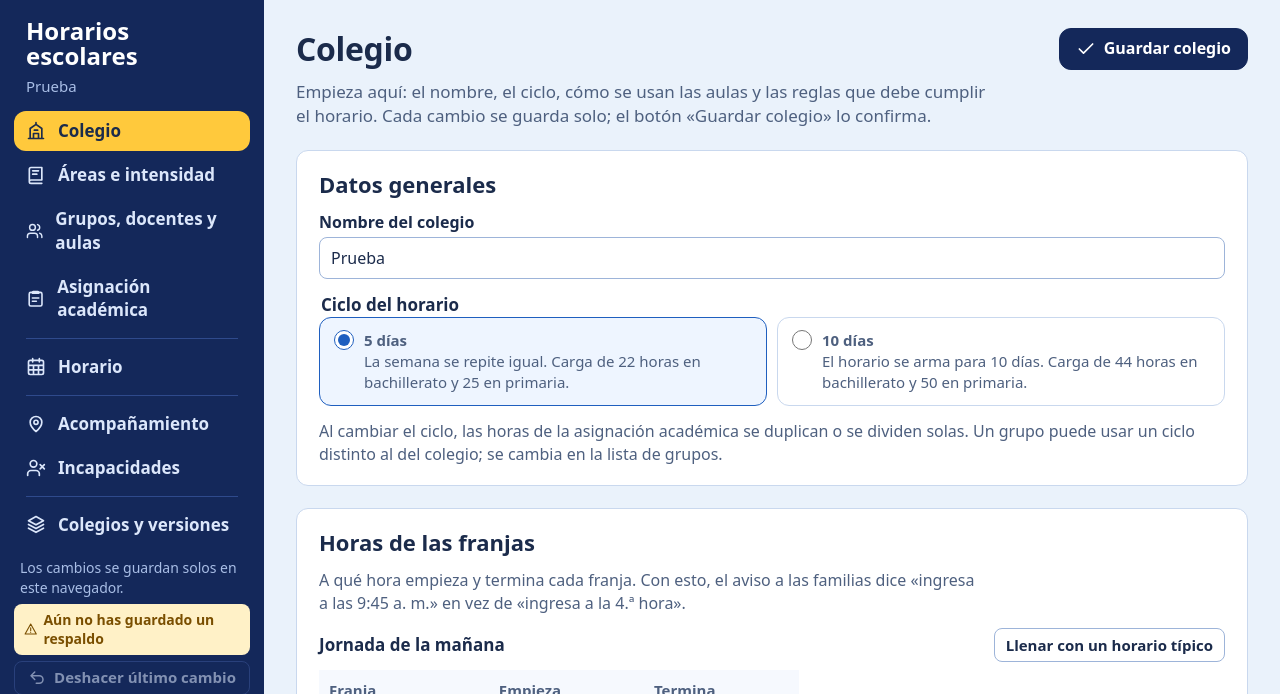
Scenario: pantalla de horario › si la asignación no cabe explica qué bloquea y aplica la solución que elija el usuario
Click the button "Horario". click: (132, 367)
box: [14,347,250,387]
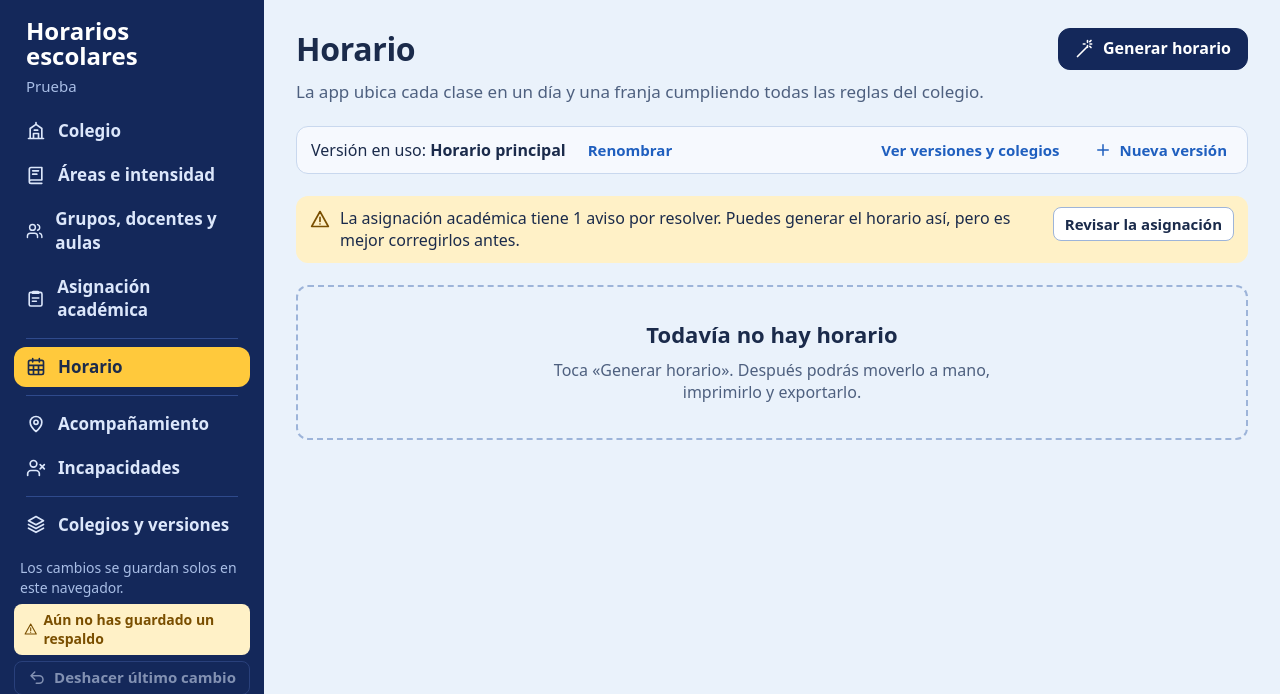
Click the button "Generar horario". click: (1153, 49)
box: [1058,28,1248,70]
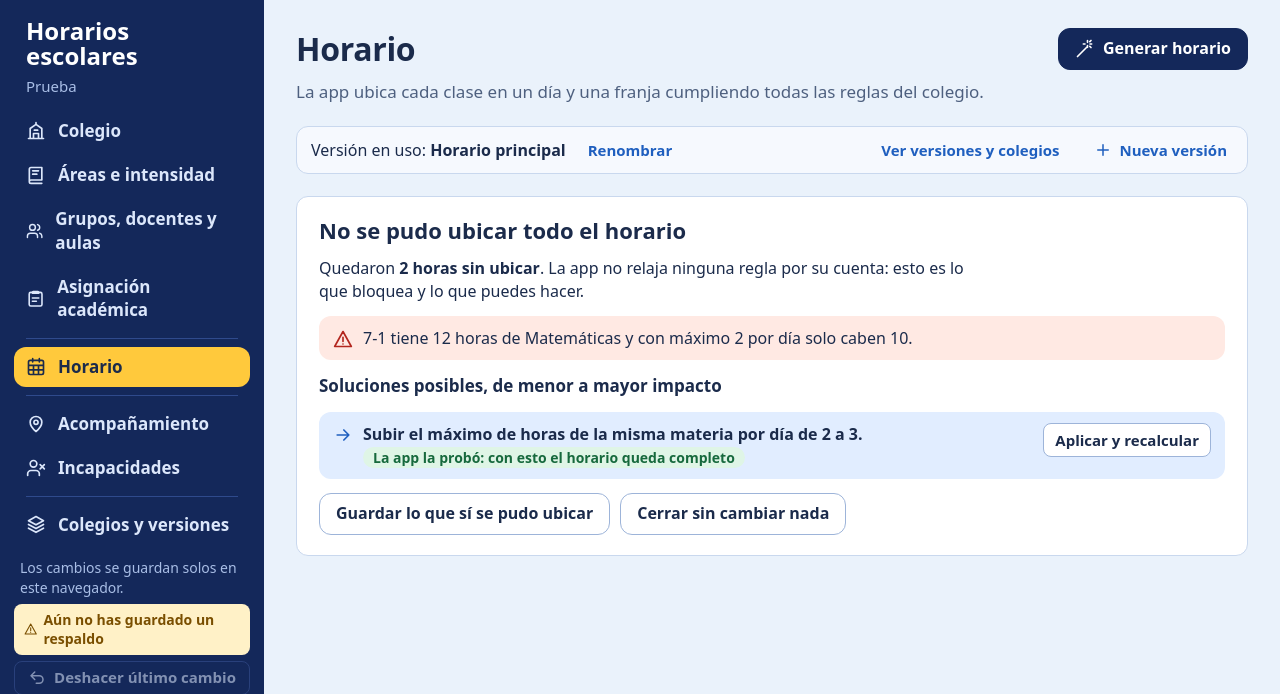
Check: the heading "No se pudo ubicar todo el horario" is shown, box [319,215,686,245]
Check: the text "con máximo 2 por día solo caben 10" is shown, box [363,327,913,349]
Click the button named "Aplicar y recalcular: Subir el máximo de horas de la misma materia". click: (1127, 440)
box: [1043,423,1211,457]
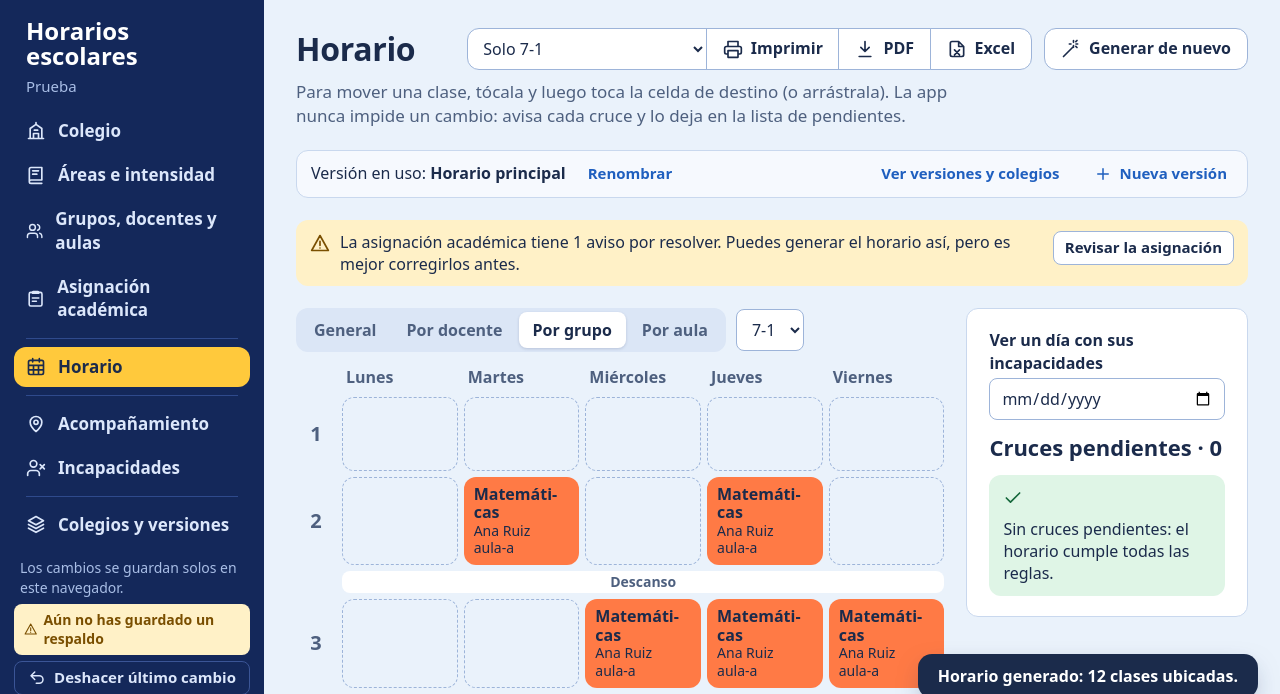
Check: the text "Sin cruces pendientes: el horario cumple todas las reglas." is shown, box [1003,518,1211,585]
